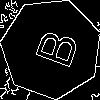B: (26, 23, 80, 70)
